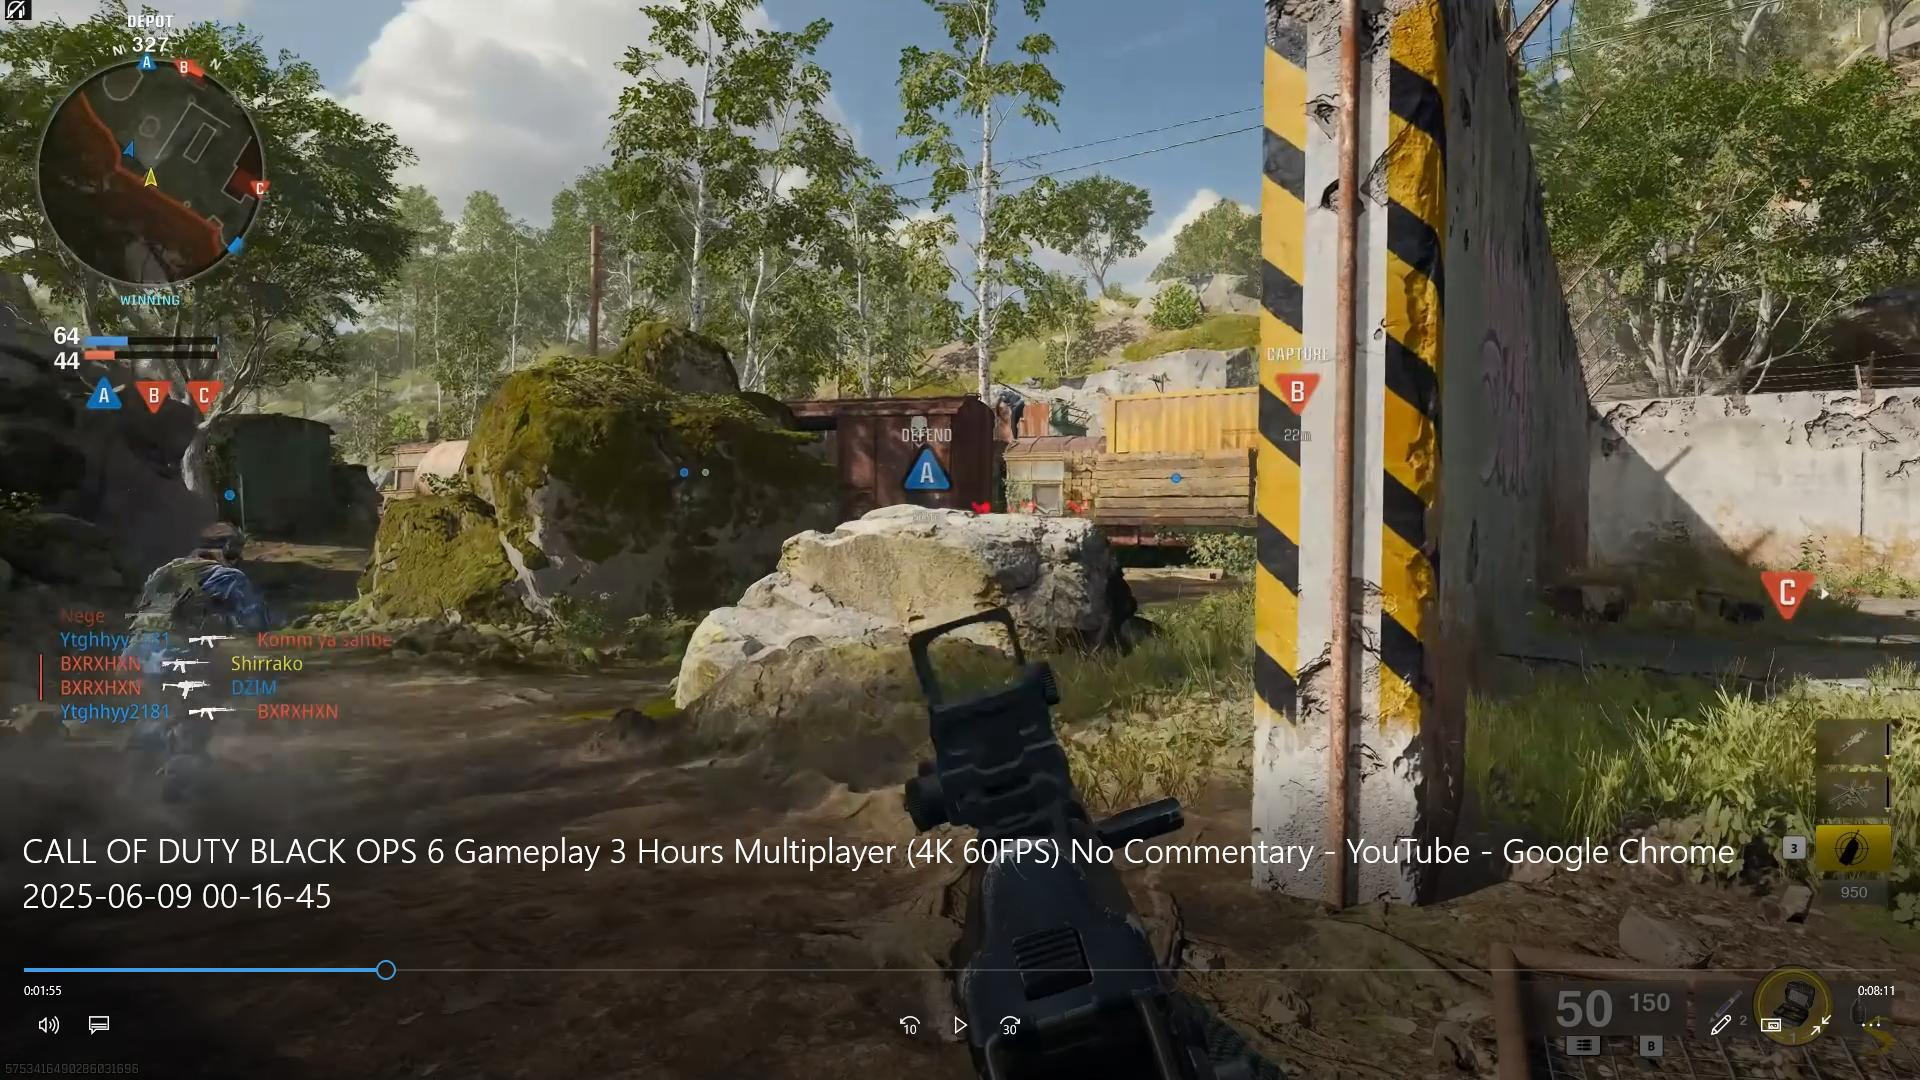Enemy: (996, 381, 1031, 443)
